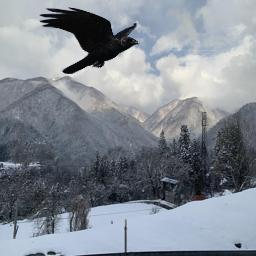Crow: (38, 6, 141, 74)
